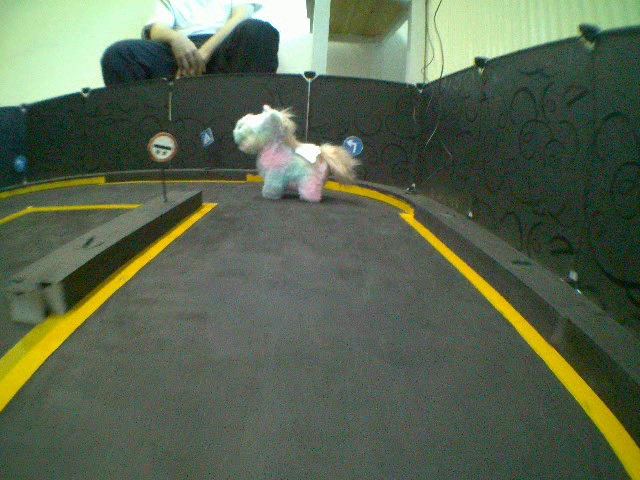unicorn: (228, 101, 361, 209)
